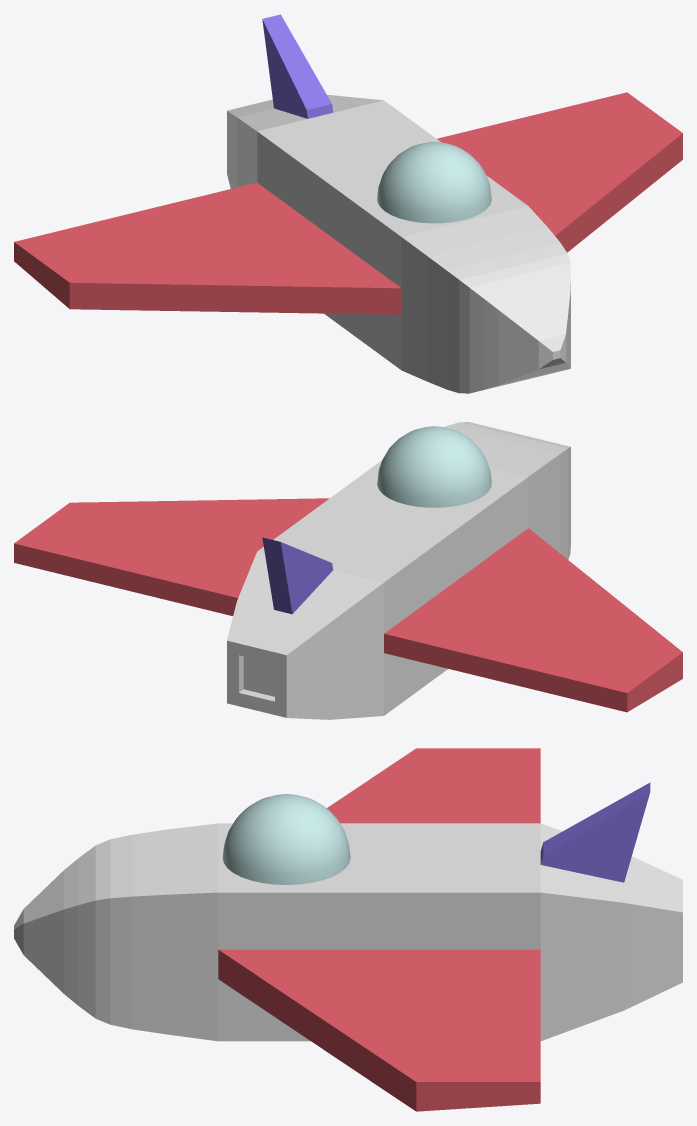
The model's file is airplane.fbx.
3 views of the same model, one above another, from view 1: azimuth 30°, elevation 25°; view 2: azimuth 150°, elevation 25°; view 3: azimuth 270°, elevation 25° (orthographic). The views are drawn at different scales.
Parts seen in each view (by area): view 1: Cube, Sphere; view 2: Cube, Sphere; view 3: Cube, Sphere.
Boxes of the visible parts, bbox=[...] form: Cube: bbox=[14, 14, 682, 393]; Sphere: bbox=[377, 142, 491, 223]; Cube: bbox=[14, 422, 682, 719]; Sphere: bbox=[377, 426, 491, 507]; Cube: bbox=[14, 748, 682, 1111]; Sphere: bbox=[222, 794, 350, 884].
Bounding box in the file's own units: 967 × 296 × 819.
